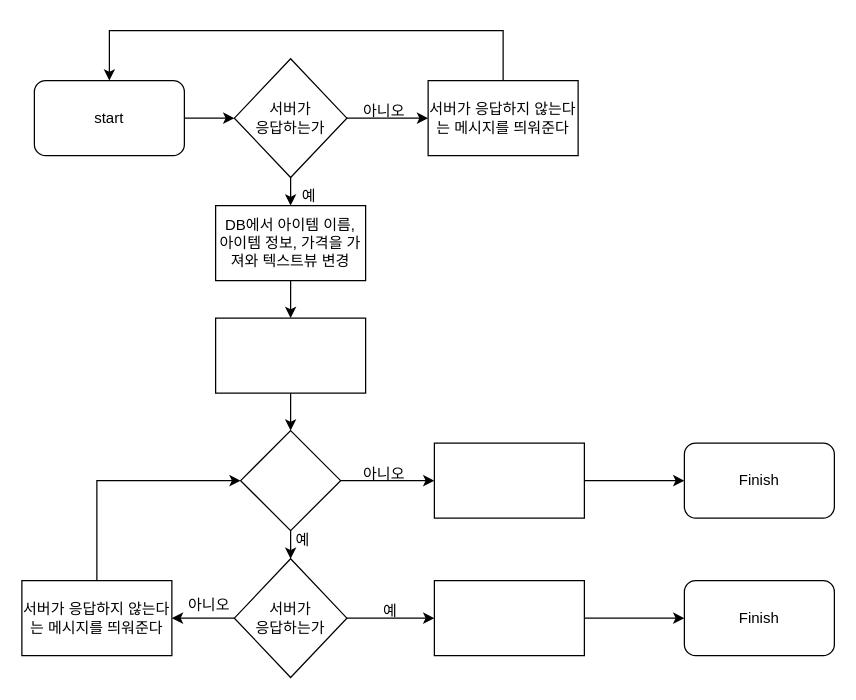
The diagram is 856 pixels wide and 700 high, and some of its shapes have lost their labels. Each missing label, with the centre of its shape:
DB에 구매하려는 아이템 정보 전송: the point at 508,617
경매장 화면으로 이동: the point at 508,480
구매하기 버튼 터치: the point at 290,480
구매하려는 수량 입력: the point at 290,355
